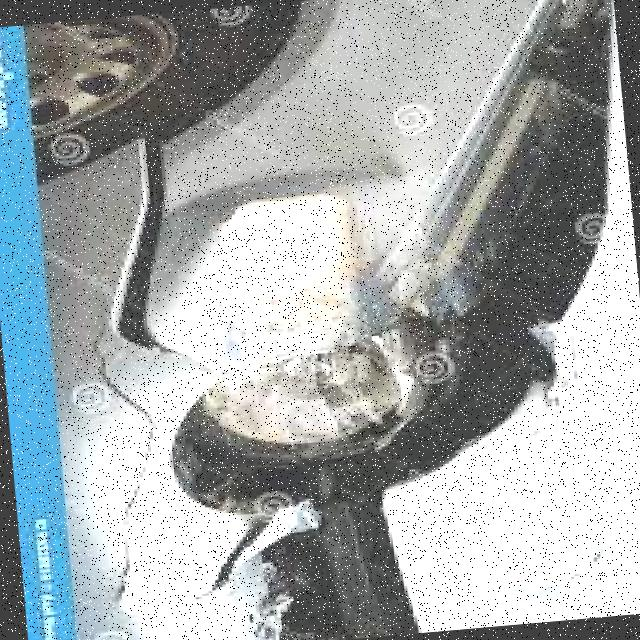Dent: (90, 130, 460, 356), (413, 372, 640, 628)
Head Light: (162, 264, 560, 512)
